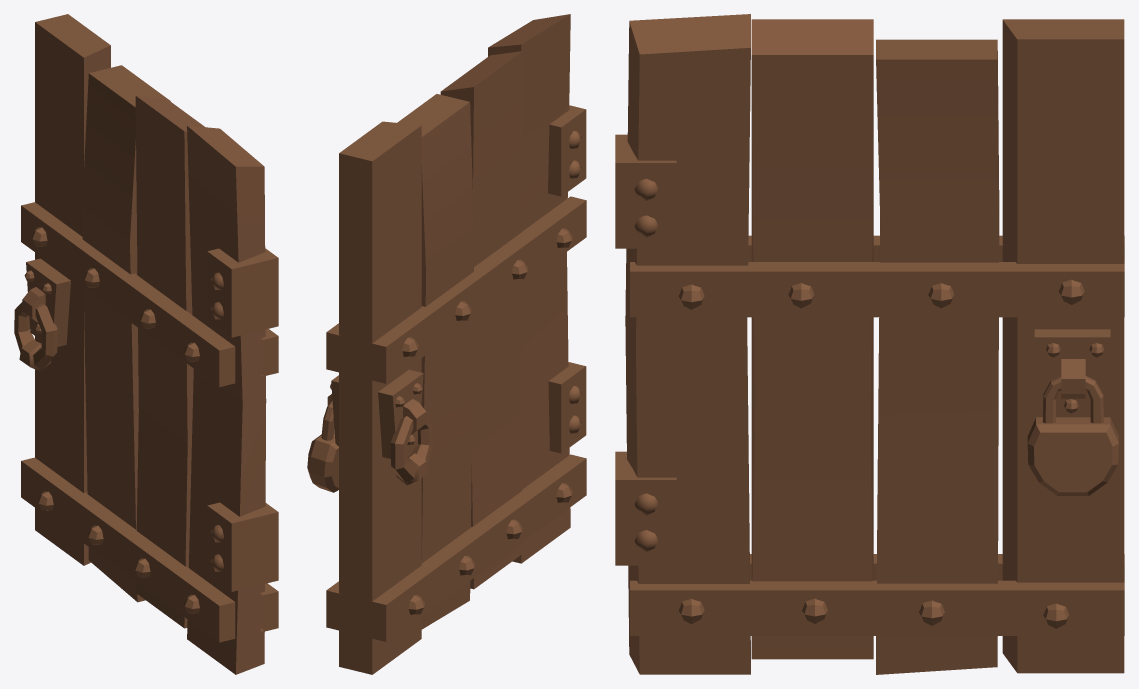
File: door with a lock.fbx
3 renders of one model, left to right at view 1: azimuth 30°, elevation 25°; view 2: azimuth 150°, elevation 25°; view 3: azimuth 270°, elevation 25°, orthographic. The views are drawn at different scales.
Parts seen in each view (by area): view 1: polySurface408; view 2: polySurface408; view 3: polySurface408.
Boxes of the visible parts, x1,y1,x2,y2 form: polySurface408: (14,14,278,674); polySurface408: (307,14,586,674); polySurface408: (615,14,1124,674).
Size of the model in its own units: 0.4547 by 2.19 by 1.58.
